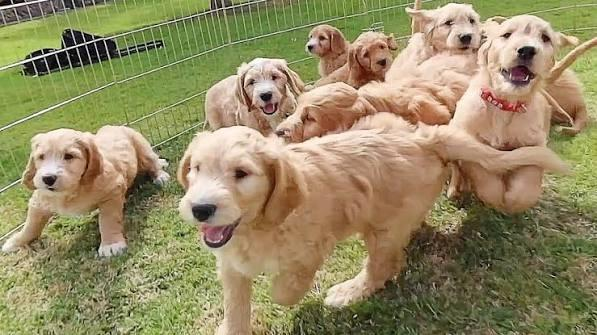puppy-dog: (175, 112, 570, 335), (446, 14, 579, 214), (1, 124, 172, 259), (274, 53, 478, 144), (384, 2, 485, 102), (204, 57, 307, 137), (321, 29, 401, 91), (548, 37, 597, 137), (305, 24, 352, 80)
